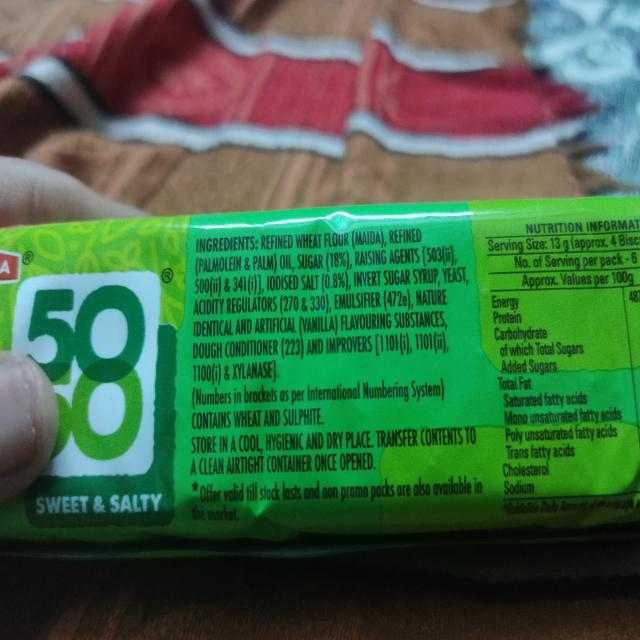50 50 biscuit: (0, 191, 640, 561)
